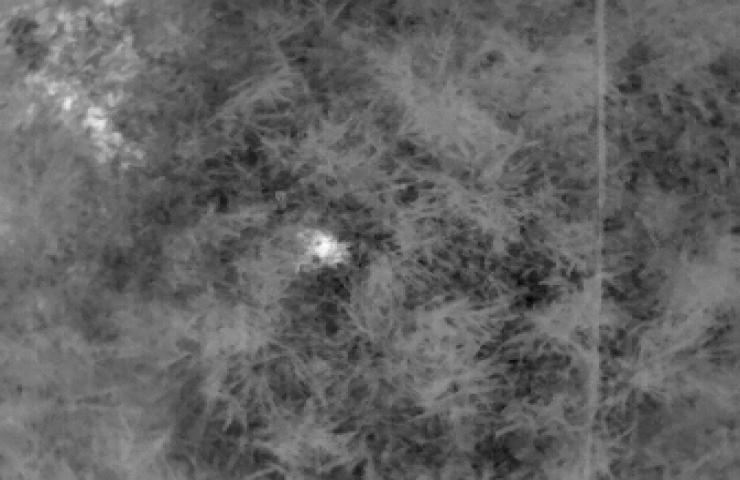landmines: (302, 227, 352, 271)
